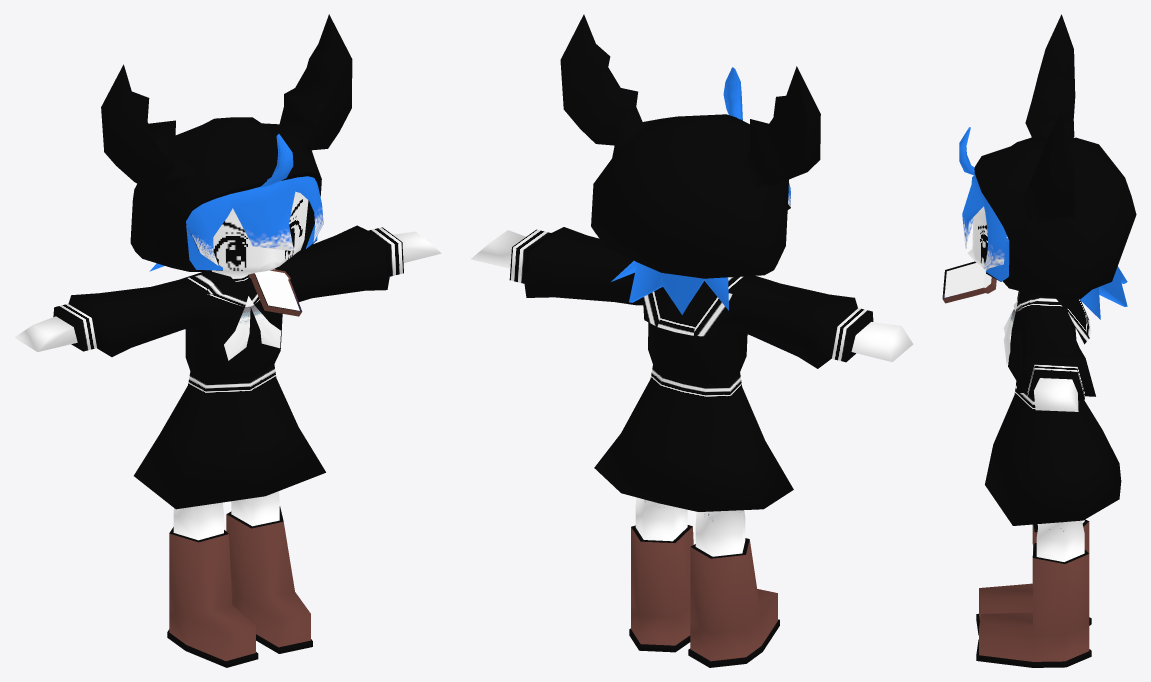
3 renders of one model, left to right at view 1: azimuth 30°, elevation 25°; view 2: azimuth 150°, elevation 25°; view 3: azimuth 270°, elevation 25°, orthographic. The views are drawn at different scales.
Parts seen in each view (by area): view 1: 큐브; view 2: 큐브; view 3: 큐브.
Part boxes in pixels (x1,y1,x2,y2): 큐브: (14, 14, 441, 667); 큐브: (471, 14, 913, 667); 큐브: (942, 14, 1136, 667).
Bounding box in the file's own units: 6.13 × 8.45 × 2.57.
Materials: 1 (1 with a texture image).
